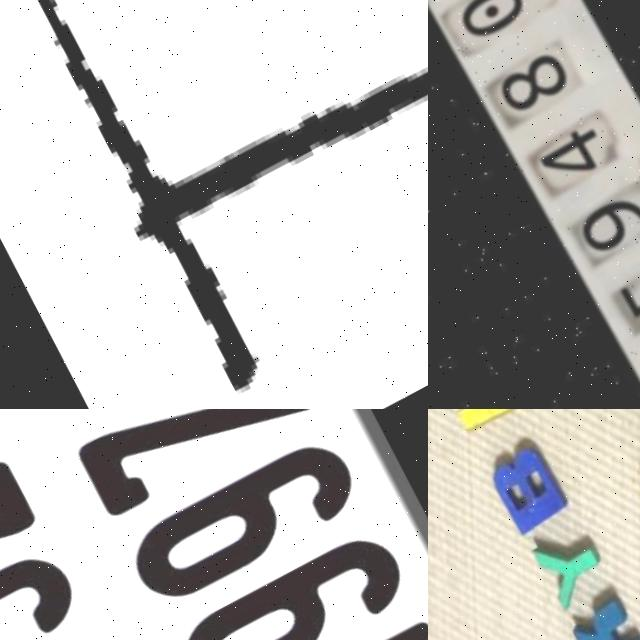0: (437, 0, 550, 63)
4: (522, 111, 629, 206)
5: (606, 244, 640, 339)
7: (73, 409, 324, 525)
8: (482, 40, 587, 134)
9: (119, 418, 378, 615), (169, 520, 426, 640), (564, 178, 640, 271)
B: (482, 434, 576, 538)
K: (568, 591, 640, 640)
L: (431, 409, 522, 437)
T: (0, 0, 428, 409)
Y: (535, 522, 615, 602)
Z: (0, 448, 44, 632)
